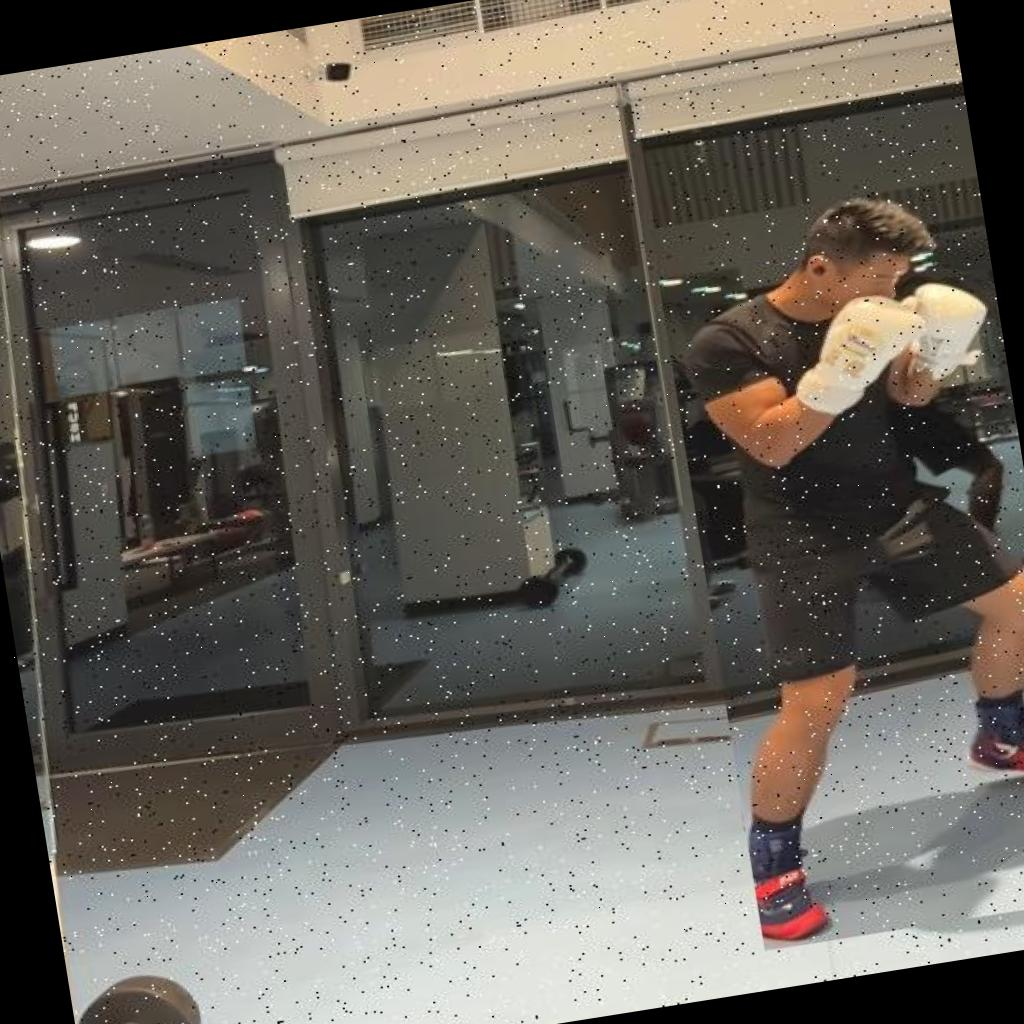no punch: (649, 176, 1024, 950)
